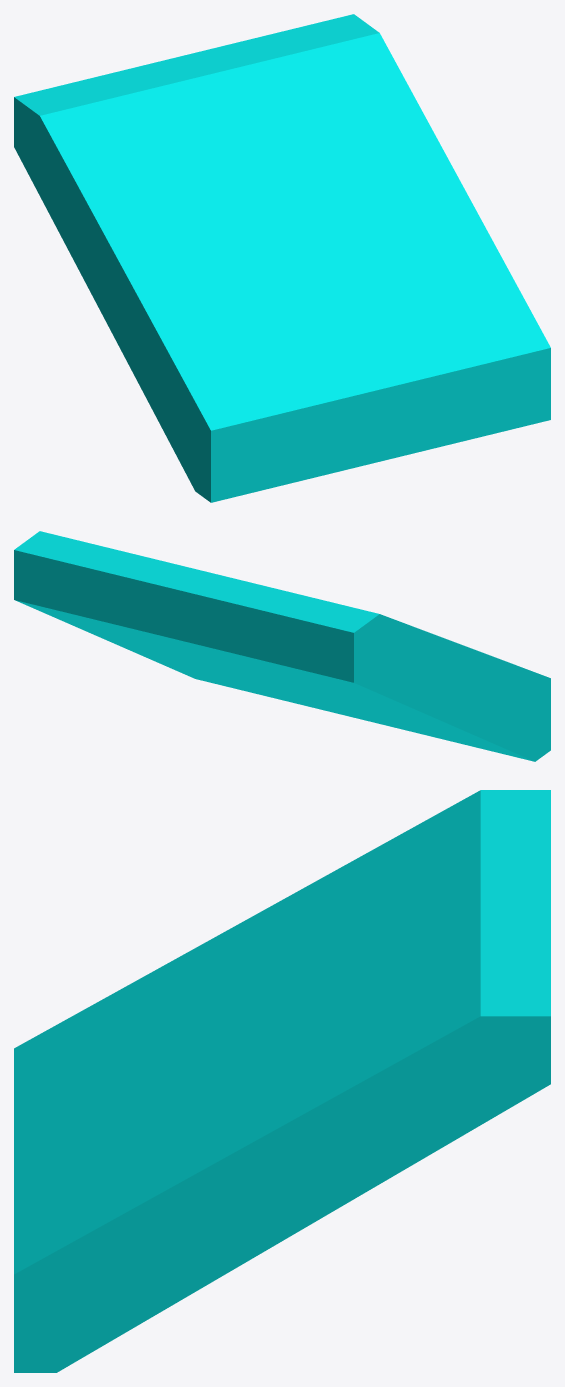
File: SM_Bld_Stairs_Tiles_01_Collision.fbx
3 renders of one model, top to bottom at view 1: azimuth 30°, elevation 25°; view 2: azimuth 150°, elevation 25°; view 3: azimuth 270°, elevation 25°, orthographic. The views are drawn at different scales.
Visible parts, largest first — view 1: SM_Bld_Stairs_Tiles_01_Collision; view 2: SM_Bld_Stairs_Tiles_01_Collision; view 3: SM_Bld_Stairs_Tiles_01_Collision.
Part boxes in pixels (x1=…): SM_Bld_Stairs_Tiles_01_Collision: x1=14, y1=14, x2=550, y2=502; SM_Bld_Stairs_Tiles_01_Collision: x1=14, y1=531, x2=550, y2=761; SM_Bld_Stairs_Tiles_01_Collision: x1=14, y1=790, x2=550, y2=1372.
Size of the model in its own units: 249 by 183 by 250.
